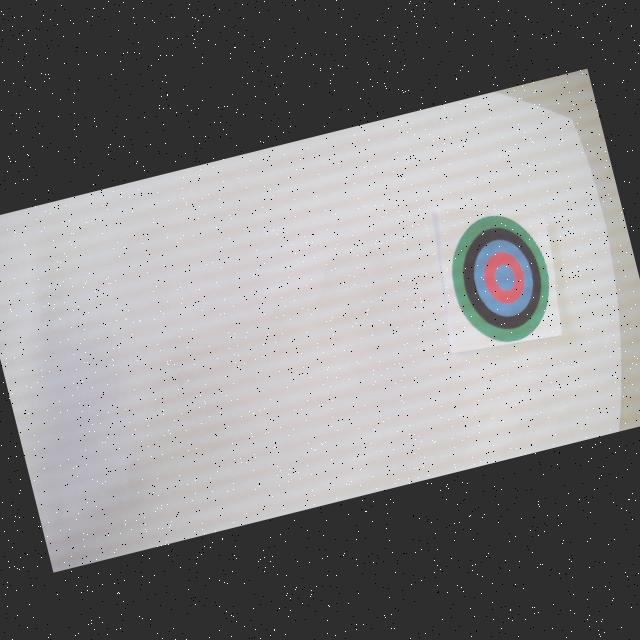COGNITIVE: (440, 205, 563, 353)
